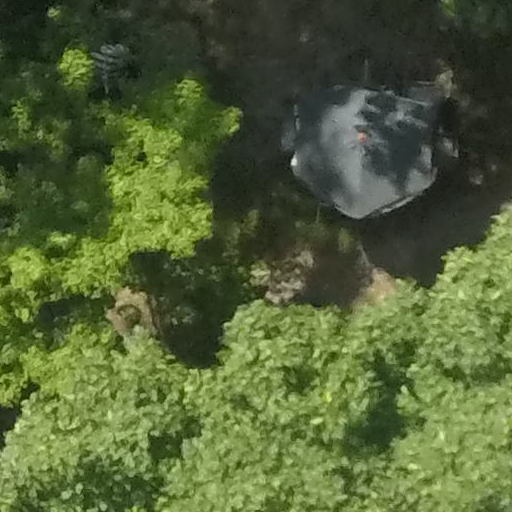umbrella: (276, 61, 445, 244)
